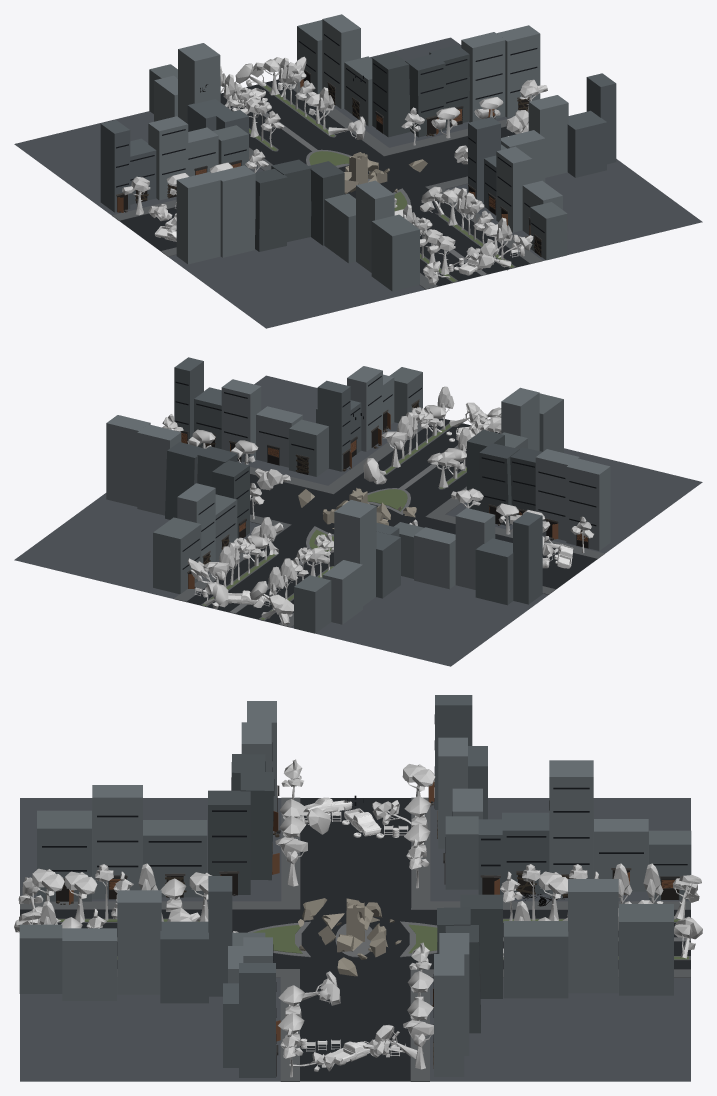
Rendered from obelisco_fase4.fbx.
3 renders of one model, top to bottom at view 1: azimuth 30°, elevation 25°; view 2: azimuth 150°, elevation 25°; view 3: azimuth 270°, elevation 25°, orthographic. The views are drawn at different scales.
Visible parts, largest first — view 1: Edificios_Merged, Suelo_Merged, Arboles_Merged, Props_Merged, Obelisco_LowPoly; view 2: Edificios_Merged, Suelo_Merged, Arboles_Merged, Props_Merged; view 3: Edificios_Merged, Suelo_Merged, Arboles_Merged, Props_Merged, Obelisco_LowPoly.
Boxes of the visible parts, left/top/right/bottom form: Edificios_Merged: left=100, top=14, right=616, bottom=291; Suelo_Merged: left=14, top=37, right=702, bottom=328; Arboles_Merged: left=122, top=56, right=547, bottom=284; Props_Merged: left=154, top=82, right=522, bottom=275; Obelisco_LowPoly: left=349, top=152, right=367, bottom=183; Edificios_Merged: left=106, top=357, right=610, bottom=633; Suelo_Merged: left=14, top=375, right=702, bottom=666; Arboles_Merged: left=162, top=386, right=593, bottom=625; Props_Merged: left=194, top=424, right=573, bottom=616; Edificios_Merged: left=19, top=695, right=691, bottom=1077; Suelo_Merged: left=20, top=797, right=690, bottom=1081; Arboles_Merged: left=14, top=759, right=702, bottom=1077; Props_Merged: left=40, top=797, right=663, bottom=1065; Obelisco_LowPoly: left=346, top=898, right=364, bottom=941.
Size of the model in its own units: 7074 by 1706 by 7187.
